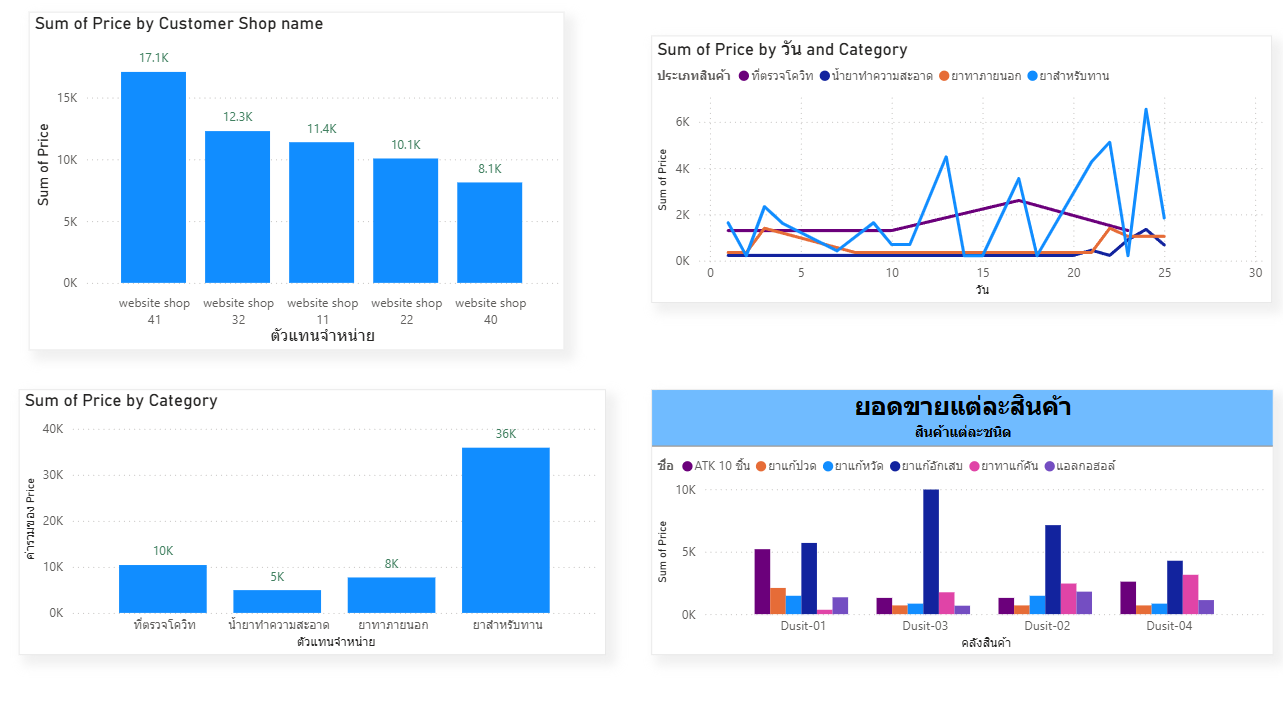

This screenshot's page, from the dashboard's own definition file:
{"tool":"powerbi","page":{"name":"หน้า 2","canvas":[1280,720],"ordinal":1},"visuals":[{"type":"lineChart","fields":{"Category":["Sheet1.Purchased Time.ตัวแปร.ลำดับชั้นวันที่.วัน"],"Y":["Sum(Sheet1.Price)"],"Series":["Sheet1.Category"]},"box":[651.4,51.4,607.1,261.4],"z":0},{"type":"clusteredColumnChart","fields":{"Category":["Sheet1.Category ลำดับชั้น.Category","Sheet1.Category ลำดับชั้น.Items Name"],"Y":["Sum(Sheet1.Price)"]},"box":[32.9,397.1,574.3,260],"z":1000},{"type":"clusteredColumnChart","title":"ยอดขายแต่ละสินค้า","fields":{"Category":["Sheet1.Drug Store"],"Y":["Sum(Sheet1.Price)"],"Series":["Sheet1.Items Name"]},"box":[651.4,397.1,608.6,260],"z":2000},{"type":"clusteredColumnChart","fields":{"Category":["Sheet1.Customer Shop name"],"Y":["Sum(Sheet1.Price)"]},"box":[42.9,28.6,524.3,331.4],"z":2001}]}

Visuals, with their boxes in screenshot pixels (x1, y1, x2, y2), scaled from the page's 1280x720 canvas onto the 1283x702 screenshot:
lineChart - Sheet1.Purchased Time.ตัวแปร.ลำดับชั้นวันที่.วัน x Sum(Sheet1.Price): box(653, 50, 1261, 305)
clusteredColumnChart - Sheet1.Category ลำดับชั้น.Category x Sheet1.Category ลำดับชั้น.Items Name: box(33, 387, 609, 641)
"ยอดขายแต่ละสินค้า" clusteredColumnChart: box(653, 387, 1263, 641)
clusteredColumnChart - Sheet1.Customer Shop name x Sum(Sheet1.Price): box(43, 28, 569, 351)
